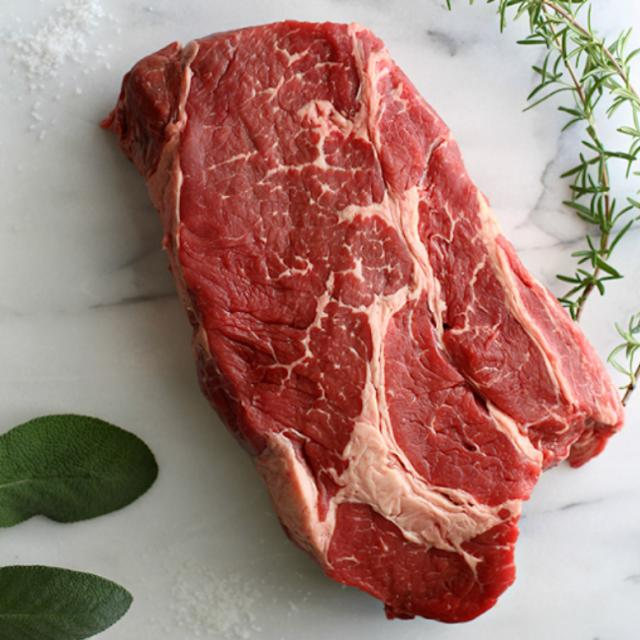Beef: (107, 14, 628, 625)
